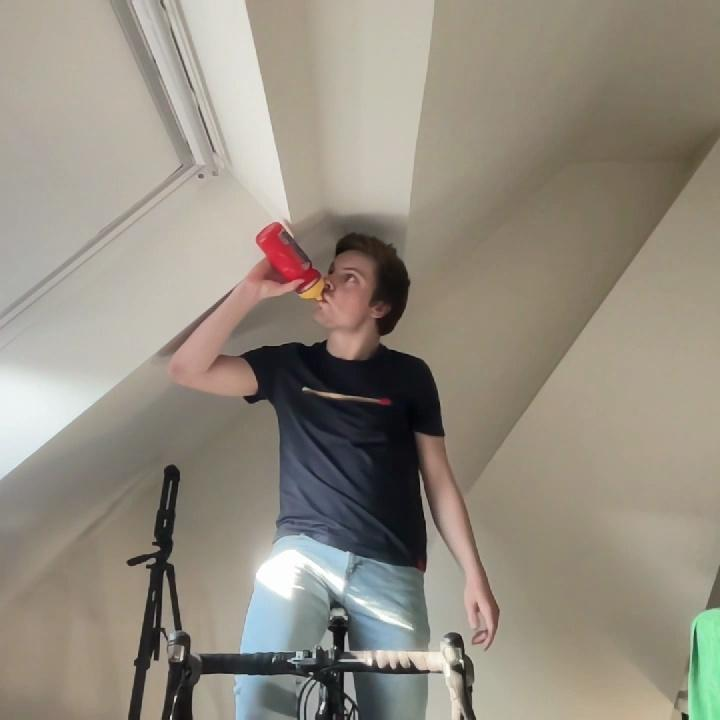Drinking: (241, 222, 393, 329)
